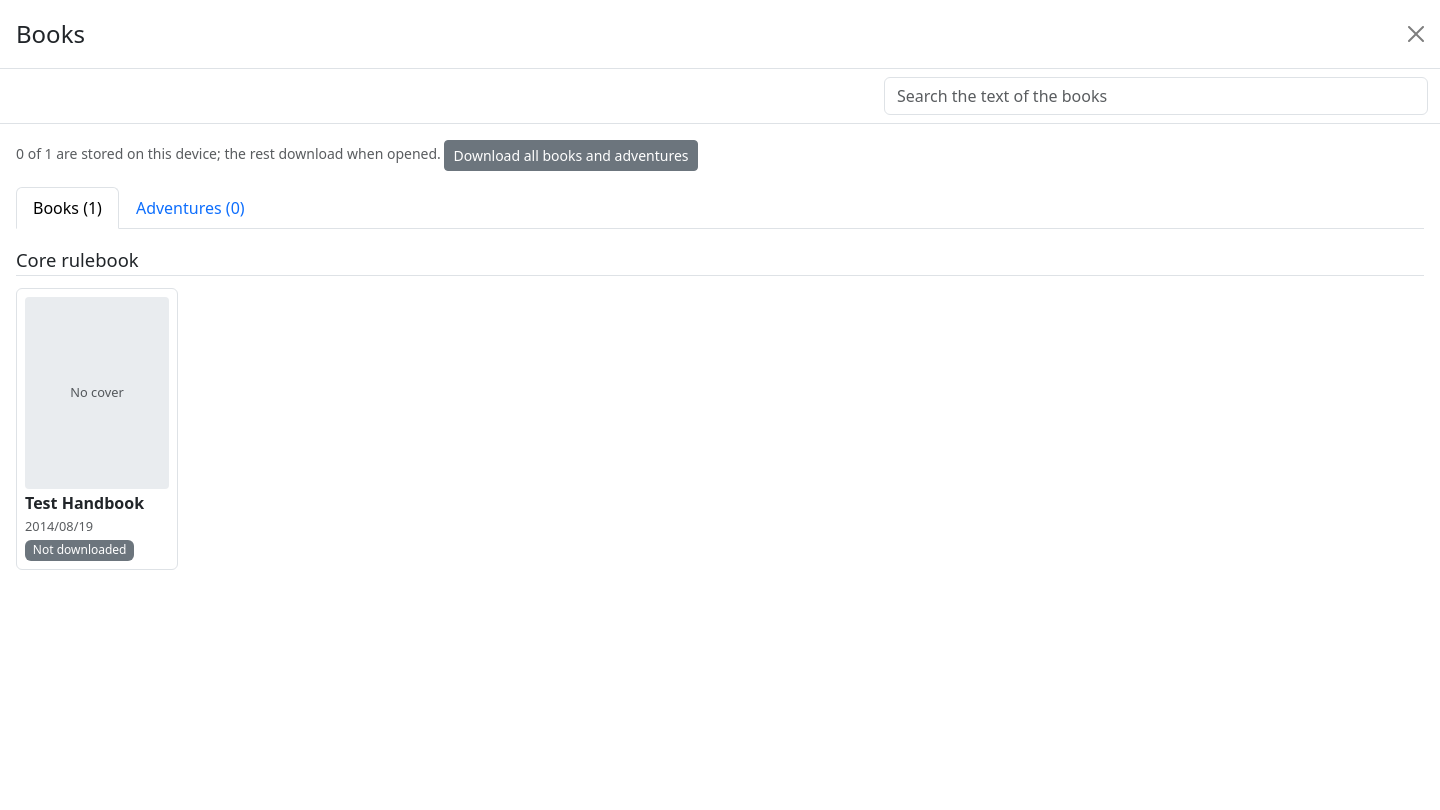
it: reading position › shows more of a book's results on request
Later steps or results of the test are not shown.
Expected: the heading "Core rulebook" is shown, [16,249,1424,276]
Type "dragon" into the search field labelled "Search the text of the books".
click(1156, 96); type("dragon")  # box [884,77,1428,115]
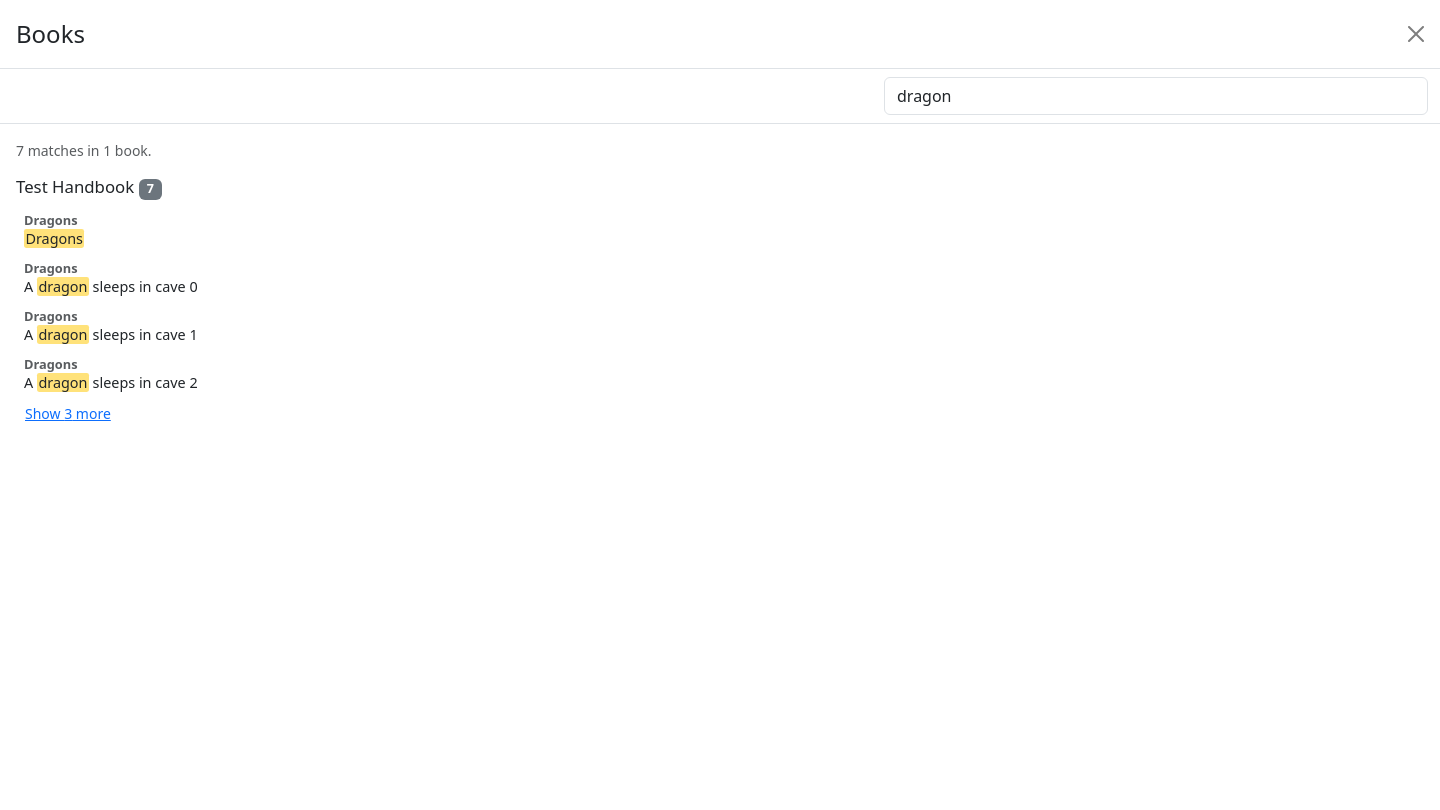
Now the element "Test Handbook" is shown, box [16,175,198,429]
